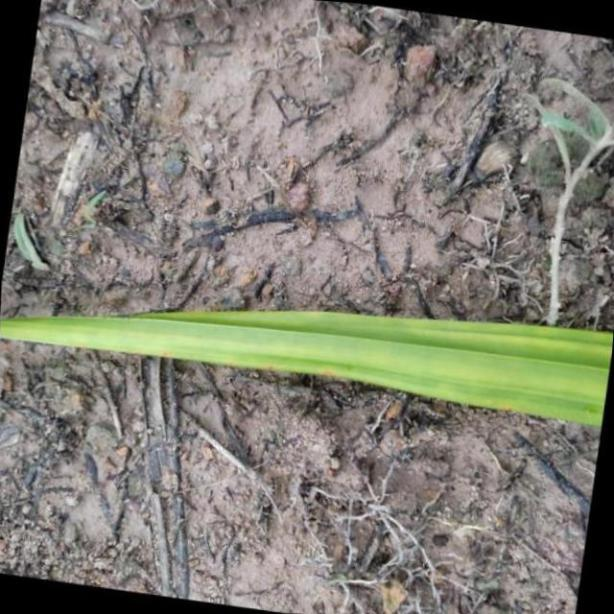nitrogen: (0, 302, 614, 430)
